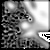node: (5, 1, 16, 11), (19, 21, 31, 30)
